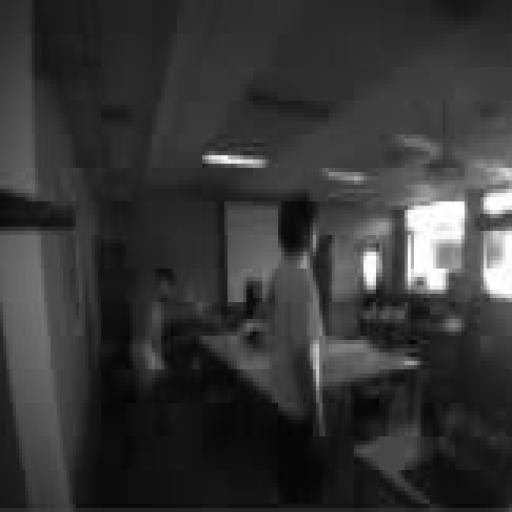human: (269, 194, 325, 503), (133, 269, 176, 390)
